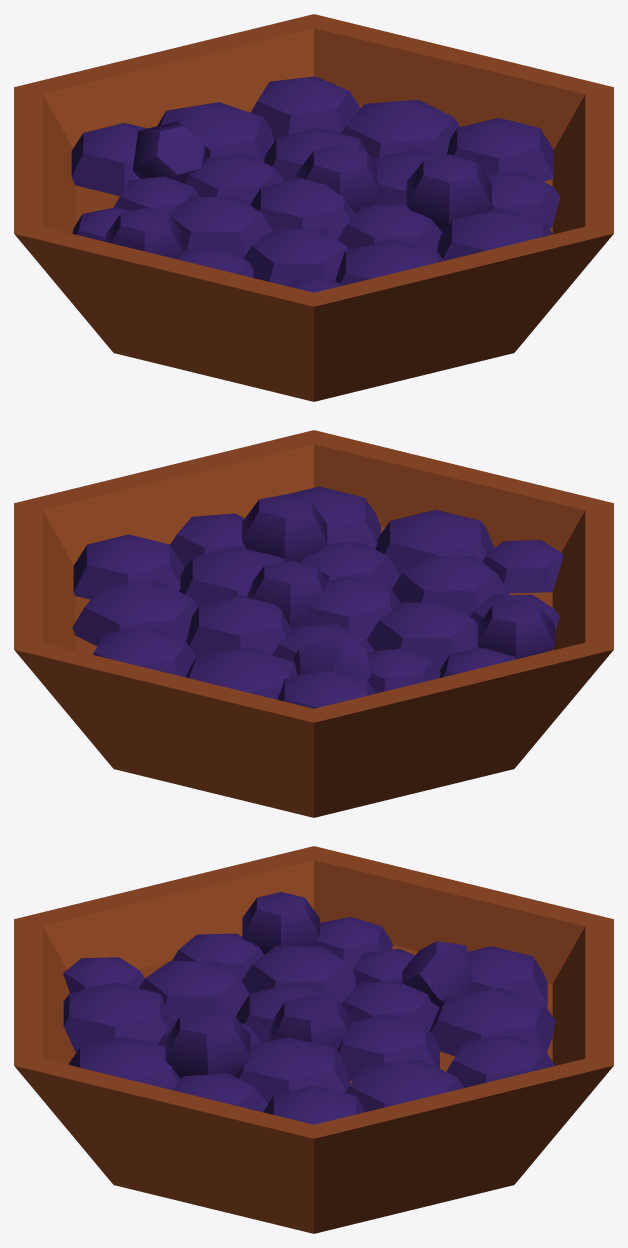
Rendered from bowl_of_plums.fbx.
3 views of the same model, one above another, from view 1: azimuth 30°, elevation 25°; view 2: azimuth 150°, elevation 25°; view 3: azimuth 270°, elevation 25° (orthographic).
Visible parts, largest first — view 1: bowl, plum1, plum, plum6, plum21, plum15, plum13, plum11, plum7, plum9, plum5, plum22 (+12 smaller); view 2: bowl, plum1, plum13, plum, plum3, plum14, plum15, plum21, plum2, plum7, plum11, plum19 (+12 smaller); view 3: bowl, plum7, plum14, plum2, plum21, plum15, plum3, plum13, plum1, plum19, plum6, plum5 (+11 smaller).
Part boxes in pixels (x1,y1,x2,y2): bowl: (14, 14, 613, 401); plum1: (341, 99, 459, 159); plum: (446, 118, 553, 181); plum6: (250, 76, 360, 140); plum21: (406, 154, 491, 232); plum15: (243, 228, 348, 285); plum13: (168, 197, 272, 258); plum11: (250, 178, 356, 238); plum7: (157, 102, 274, 162); plum9: (71, 123, 147, 196); plum5: (437, 208, 552, 260); plum22: (297, 144, 382, 213); bowl: (14, 430, 613, 817); plum1: (72, 581, 197, 646); plum13: (367, 602, 479, 670); plum: (73, 534, 184, 599); plum3: (186, 595, 292, 656); plum14: (375, 509, 494, 576); plum15: (392, 555, 510, 616); plum21: (242, 494, 327, 562); plum2: (179, 546, 285, 606); plum7: (186, 647, 296, 699); plum11: (297, 576, 400, 639); plum19: (477, 600, 555, 658); bowl: (14, 846, 613, 1233); plum7: (429, 987, 555, 1056); plum14: (63, 982, 173, 1052); plum2: (236, 1037, 350, 1104); plum21: (165, 1008, 250, 1079); plum15: (139, 961, 249, 1022); plum3: (337, 1014, 439, 1080); plum13: (241, 946, 355, 1004); plum1: (345, 1060, 463, 1112); plum19: (242, 892, 319, 954); plum6: (446, 1036, 554, 1087); plum5: (69, 1036, 180, 1089).
Bounding box in the file's own units: 23.59 × 6.03 × 20.43.
Materials: 1 (1 with a texture image).
